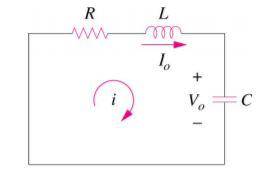inductor: (132, 22, 192, 41)
